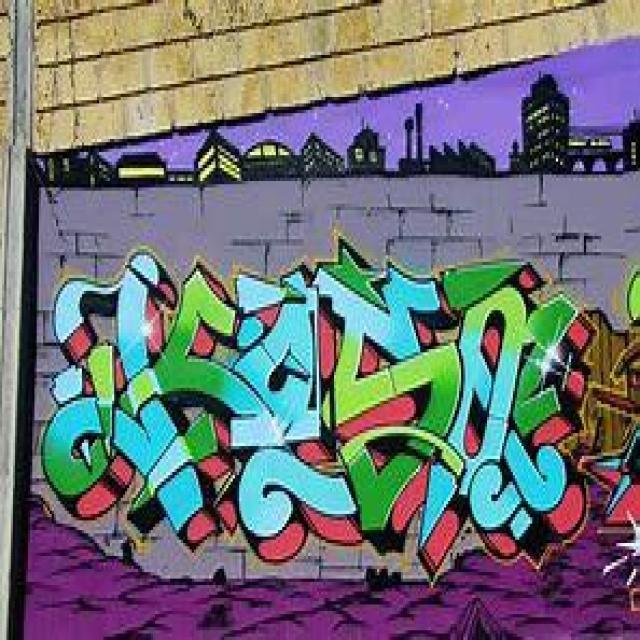nonspitting: (38, 232, 590, 590), (580, 265, 640, 614)
